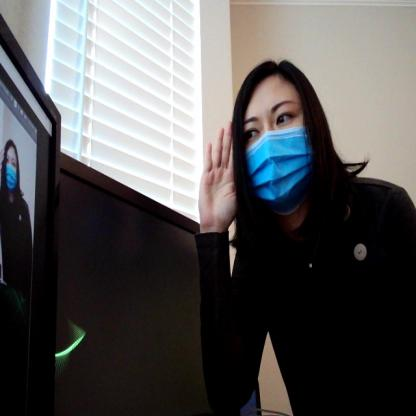hello: (193, 121, 243, 231)
